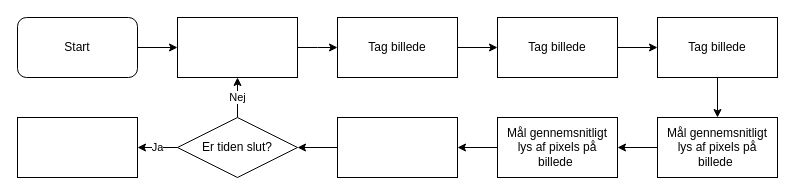
Image size: 795x195. Some labels were removed from this diagram. The box of each missing label's shape, as (x1, y1, x2, y2) in pixels:
Lav graf over position og ioniserende stråling: (16, 116, 138, 178)
Noter tid og position: (176, 16, 298, 78)
Omregn til værdi for ioniserende stråling og noter: (336, 116, 458, 178)
